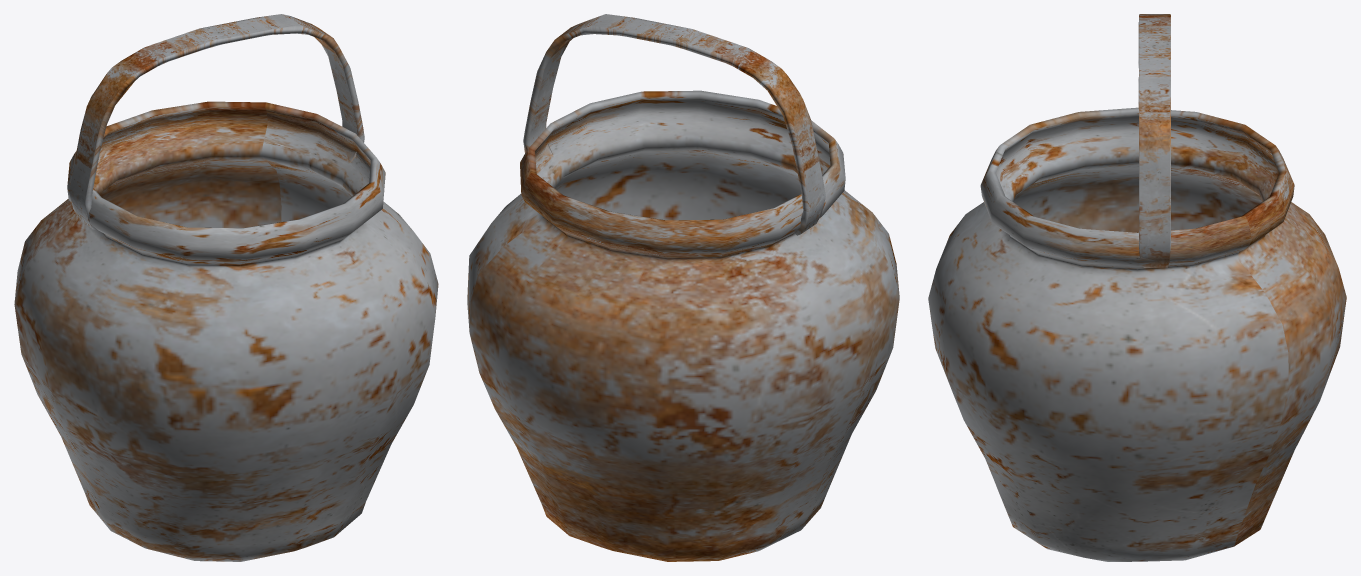
The model's file is SM_pot02.fbx.
3 views of the same model, side by side, from view 1: azimuth 30°, elevation 25°; view 2: azimuth 150°, elevation 25°; view 3: azimuth 270°, elevation 25° (orthographic). The views are drawn at different scales.
Visible parts, largest first — view 1: SM_pot02_LOD0; view 2: SM_pot02_LOD0; view 3: SM_pot02_LOD0.
Boxes of the visible parts, x1,y1,x2,y2 form: SM_pot02_LOD0: (14,14,438,561); SM_pot02_LOD0: (467,14,899,561); SM_pot02_LOD0: (928,14,1346,561).
Bounding box in the file's own units: 44.96 × 44.96 × 56.53.
